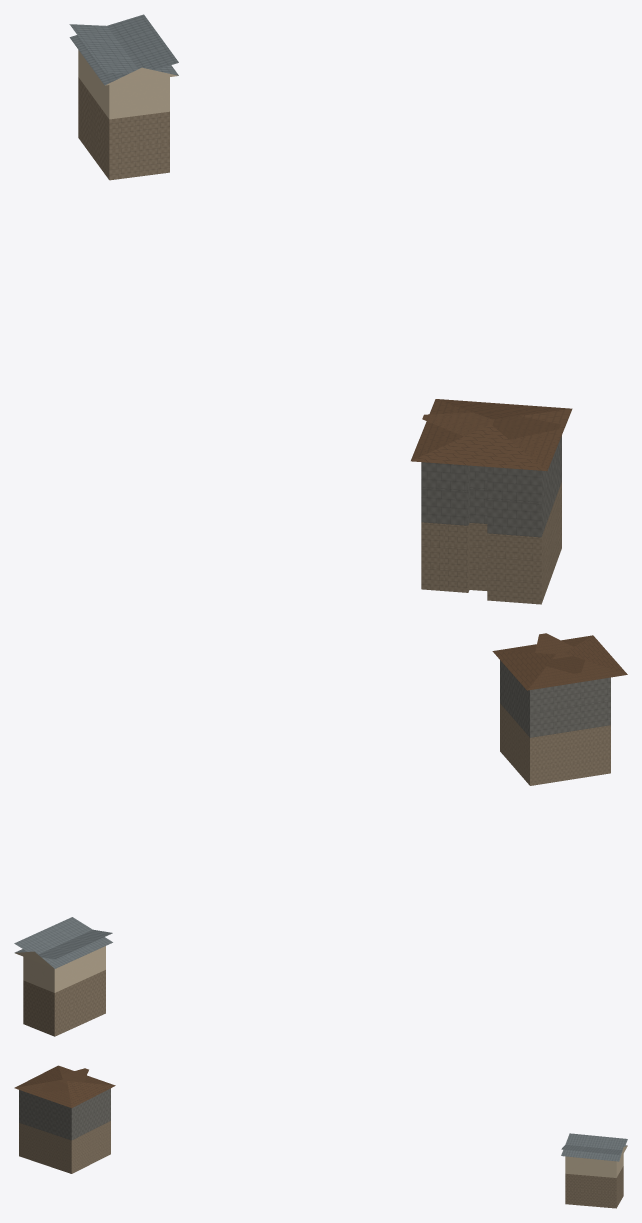
The model's file is bld_c12_29_386.gltf.
The picture shows the model from 3 angles, top to bottom: view 1: azimuth 30°, elevation 25°; view 2: azimuth 150°, elevation 25°; view 3: azimuth 270°, elevation 25°; orthographic projection. The views are drawn at different scales.
Parts seen in each view (by area): view 1: bld_c12_29_386; view 2: bld_c12_29_386; view 3: bld_c12_29_386.
Part boxes in pixels (bbox=[...]): bld_c12_29_386: bbox=[69, 14, 572, 604]; bld_c12_29_386: bbox=[14, 633, 627, 1036]; bld_c12_29_386: bbox=[14, 1065, 627, 1208].
Size of the model in its own units: 23.41 by 12.2 by 84.55.
Materials: 6 (6 with a texture image).
